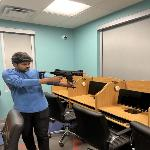Senapan: (34, 62, 88, 94)
